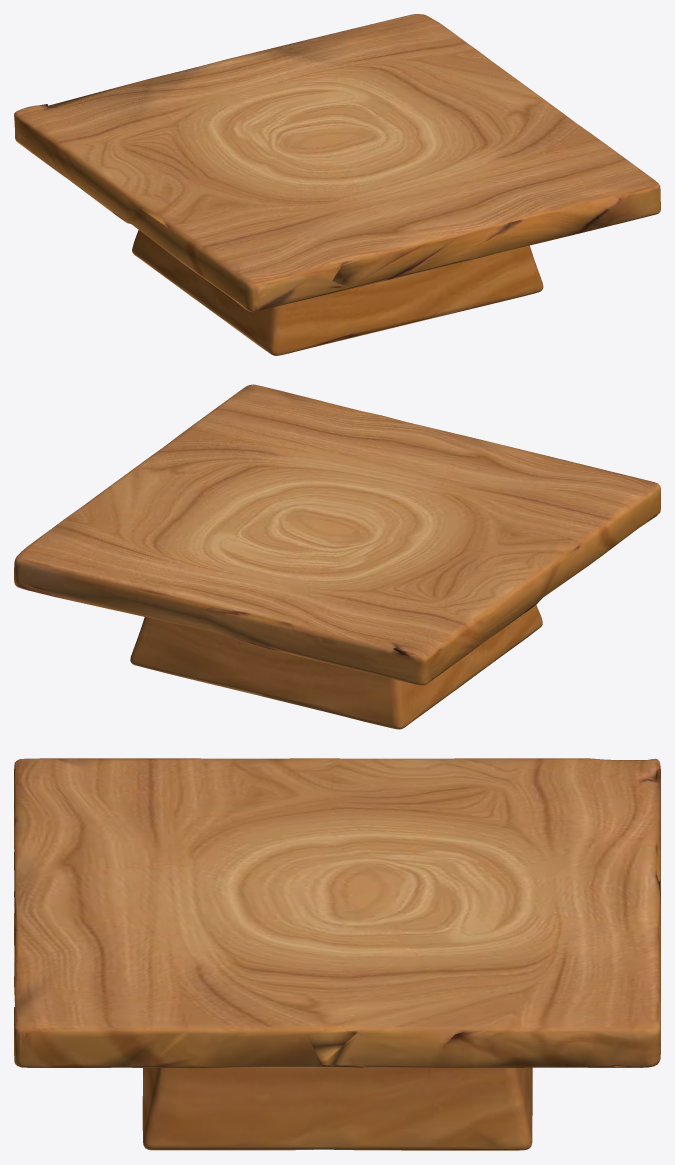
The model's file is coffee-table.glb.
The picture shows the model from 3 angles, top to bottom: view 1: azimuth 30°, elevation 25°; view 2: azimuth 150°, elevation 25°; view 3: azimuth 270°, elevation 25°; orthographic projection. The views are drawn at different scales.
Bounding box in the file's own units: 2 × 0.5884 × 2.
1 material, 1 textured.
